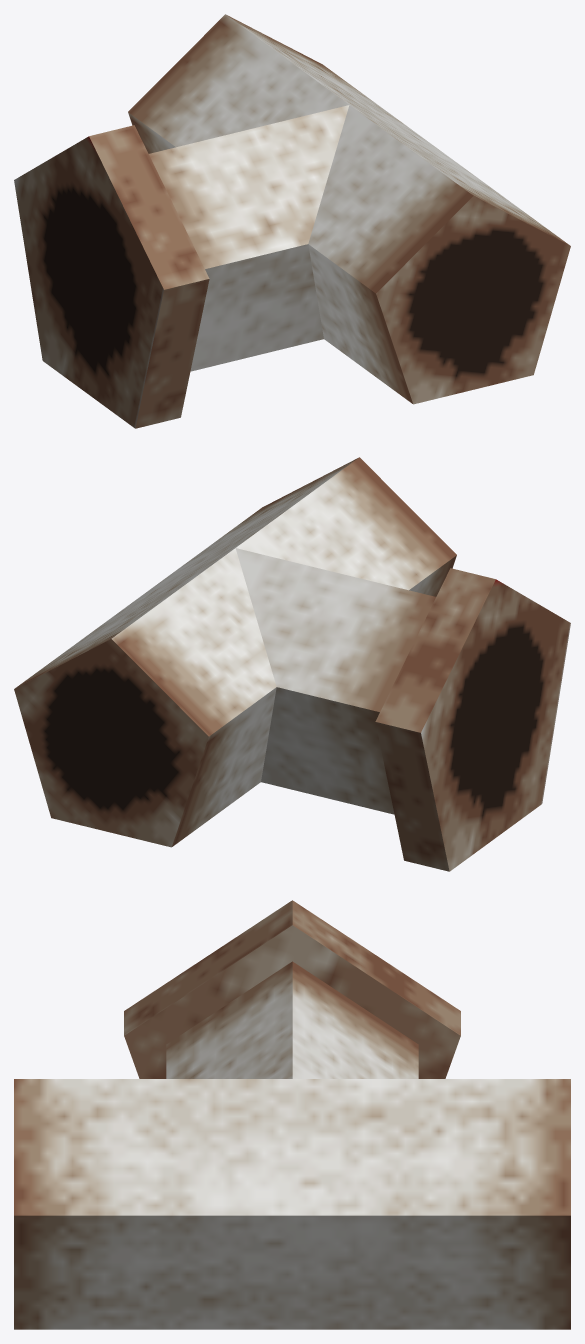
Rendered from Pipe3.obj.
The picture shows the model from 3 angles, top to bottom: view 1: azimuth 30°, elevation 25°; view 2: azimuth 150°, elevation 25°; view 3: azimuth 270°, elevation 25°; orthographic projection. The views are drawn at different scales.
Visible parts, largest first — view 1: Pipe_T; view 2: Pipe_T; view 3: Pipe_T.
Part boxes in pixels (box(x1,y1,x2,y2)): Pipe_T: box(14, 14, 570, 428); Pipe_T: box(14, 457, 570, 871); Pipe_T: box(14, 900, 570, 1329).
Bounding box in the file's own units: 0.3929 × 0.2714 × 0.4719.
Materials: 1 (1 with a texture image).
